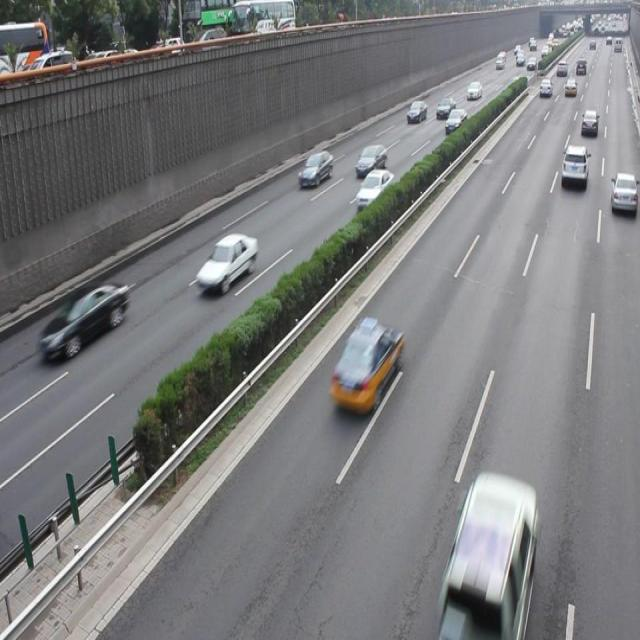car: (440, 475, 536, 640), (37, 280, 129, 359), (326, 321, 401, 414), (194, 231, 256, 292), (355, 167, 394, 212), (297, 149, 333, 188), (609, 172, 640, 216), (561, 144, 587, 187), (355, 144, 387, 176)
